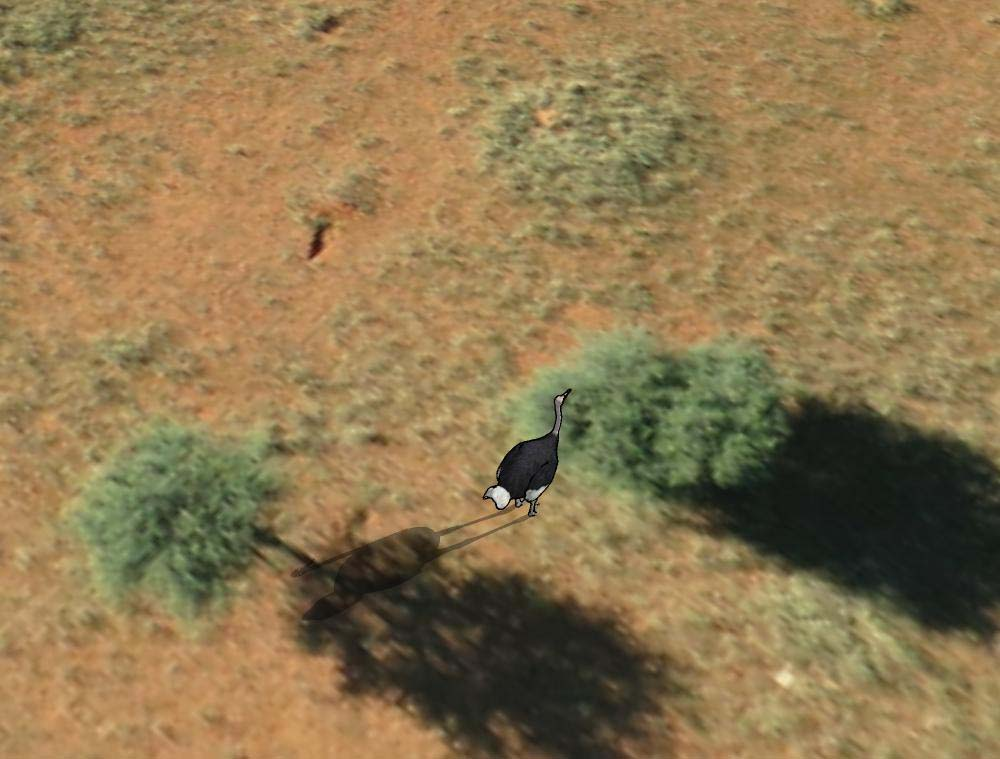ostrich: (481, 386, 576, 524)
